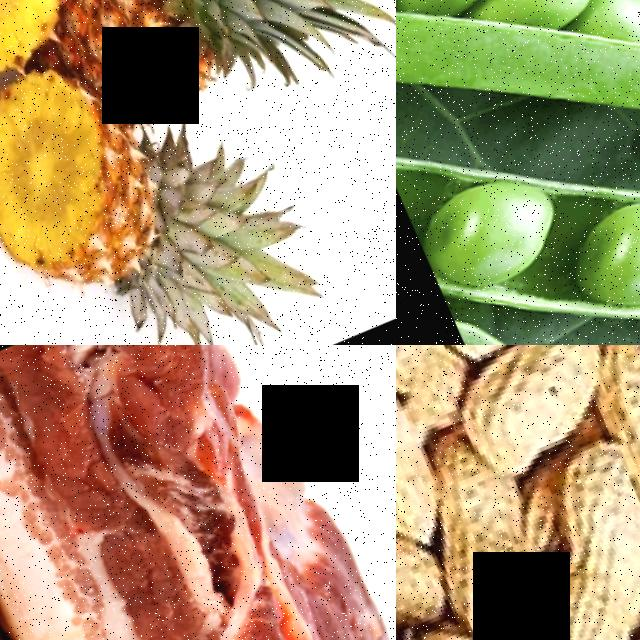peanuts: (437, 345, 621, 483), (407, 477, 561, 640), (577, 345, 640, 584), (518, 544, 640, 640), (396, 514, 440, 640), (396, 610, 521, 640)
peas: (396, 0, 640, 142)
pineapple: (0, 46, 202, 345), (35, 0, 292, 133)
pork belly: (0, 345, 396, 640)
